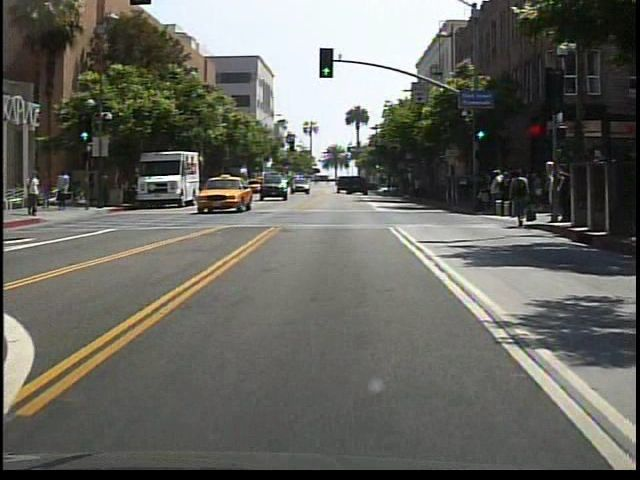person: (507, 167, 533, 229), (27, 168, 45, 219), (56, 168, 75, 213), (101, 170, 117, 208), (43, 172, 58, 211), (87, 171, 99, 208)
